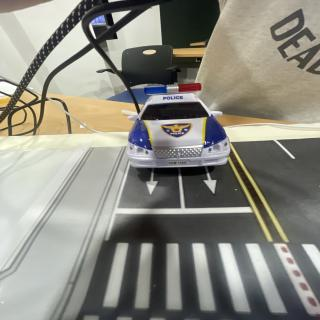Police_car: (127, 83, 230, 168)
